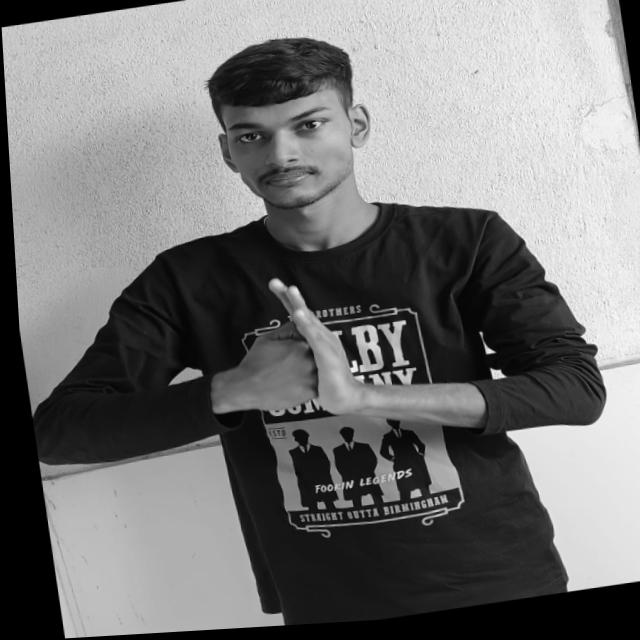Well Done: (225, 270, 366, 439)
